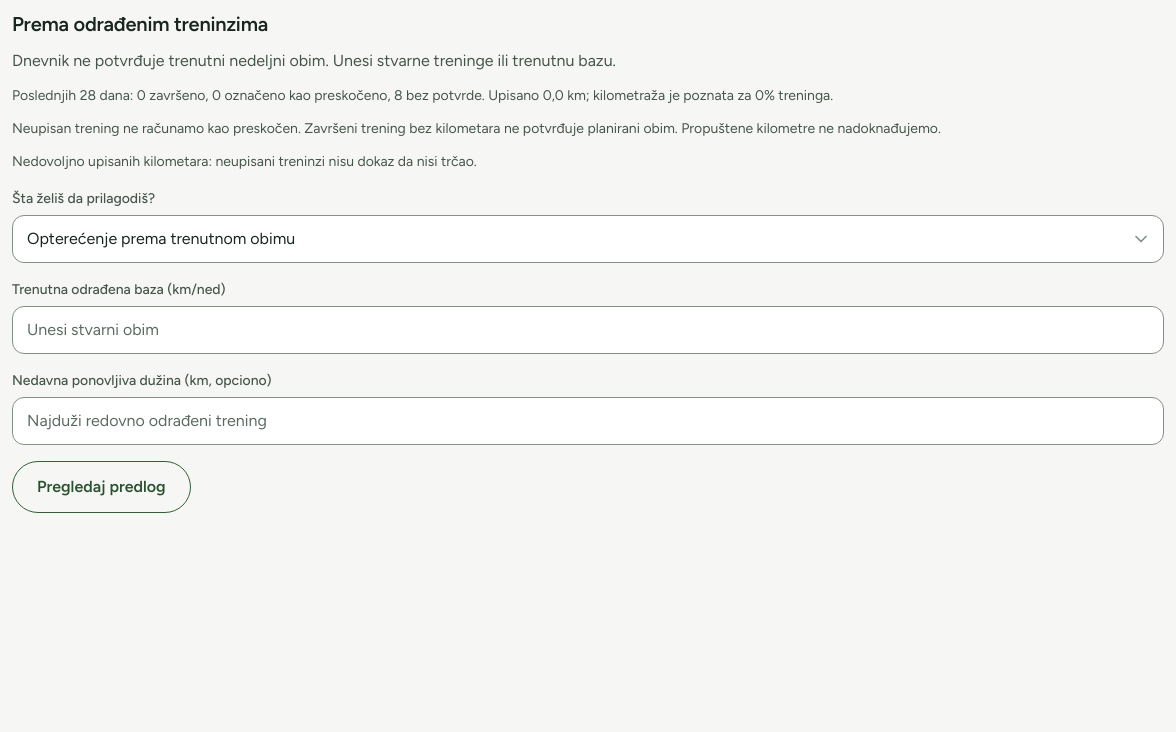
ExecutionAdjustment › grešku generatora prikazuje bez dugmeta za primenu
Type "30" into the number field labelled "Trenutna odrađena baza (km/ned)" at (588, 330), box [12,306,1164,354]
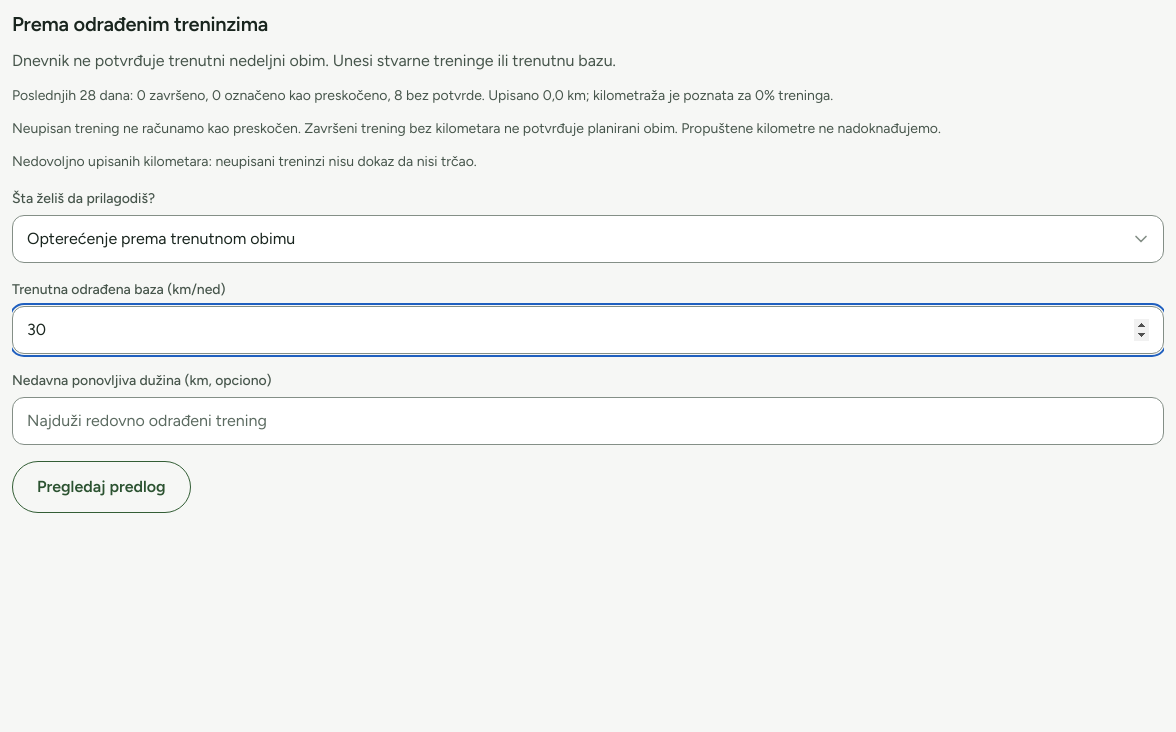
Click the button "Pregledaj predlog" at (101, 487), box [12,461,191,513]
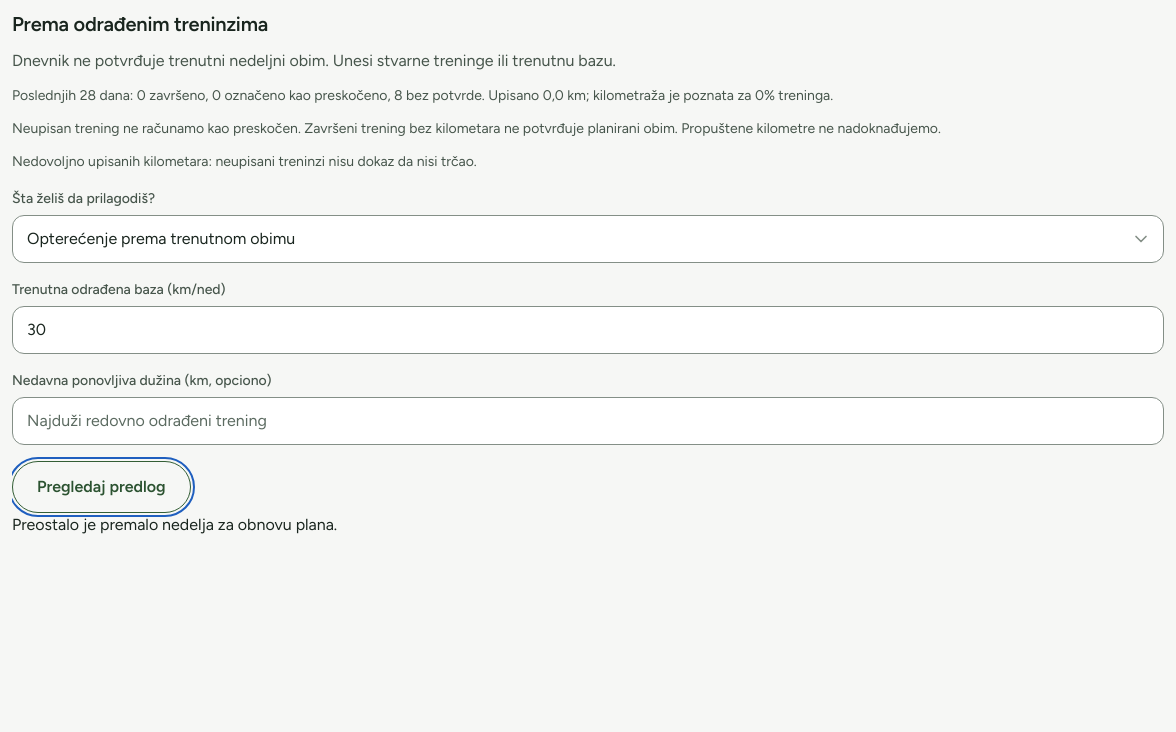
Result: the message shows "Preostalo je premalo nedelja" at [12,515,337,534]
